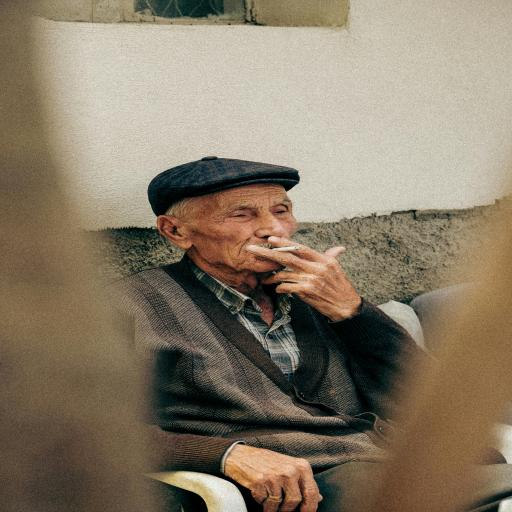terdeteksi merokok: (220, 195, 314, 282)
